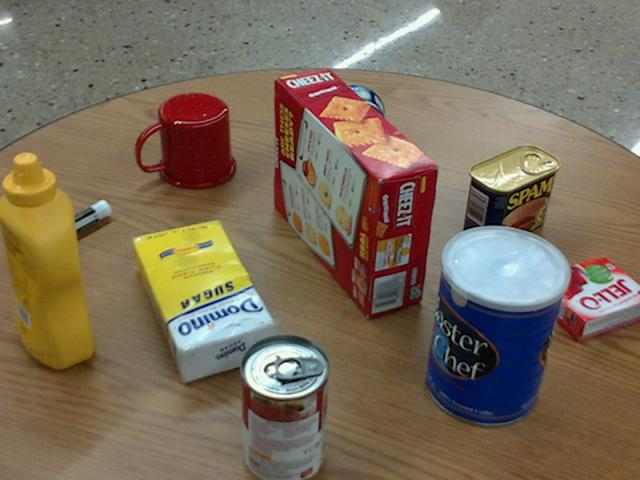cracker_box: (275, 69, 437, 316)
gelatin_box: (534, 255, 639, 339)
large_marker: (11, 199, 111, 261)
master_chef_can: (426, 226, 569, 426)
mug: (137, 93, 236, 188)
mustard_bottle: (0, 152, 92, 365)
potted_meat_can: (463, 145, 560, 251)
sugar_box: (132, 218, 275, 381)
tomato_soup_can: (238, 334, 327, 479)
tuna_fish_can: (314, 84, 384, 157)
